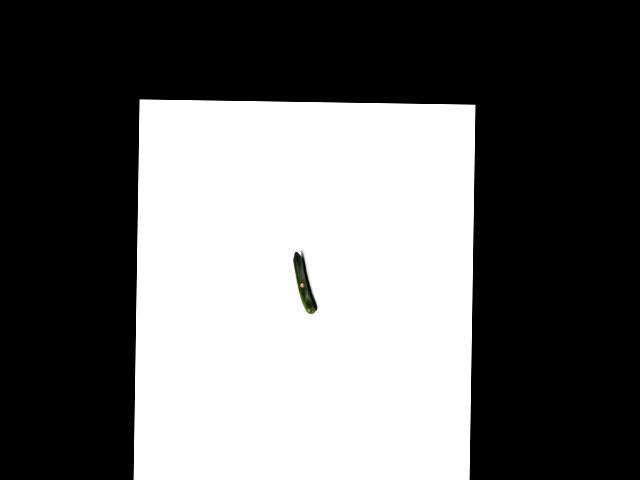cucumber: (292, 252, 316, 314)
